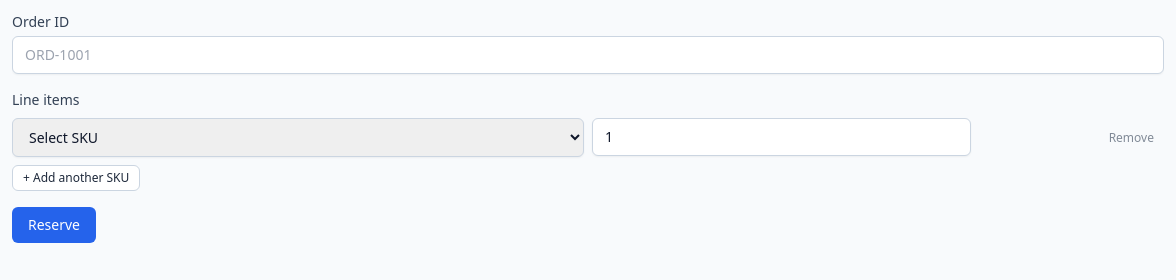
Test: ReservationForm › blocks submission when quantity exceeds available stock
In the field labelled "Order ID": (588, 55) [12,36,1164,74], type "ORD-1"
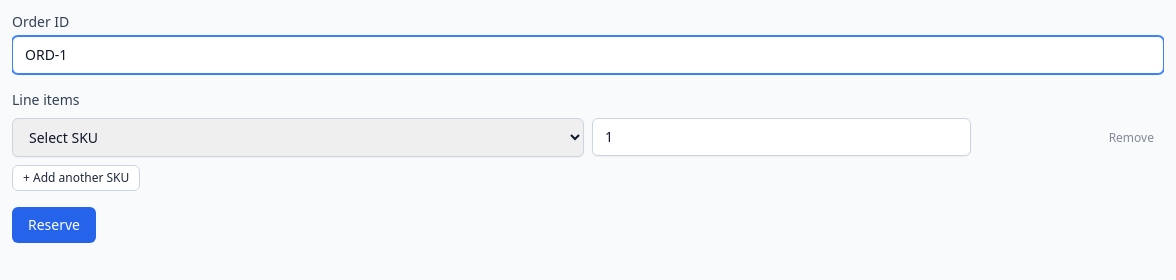
Select "B200 — Keyboard (avail 2)" in the dropdown named "SKU 1": (298, 138) [12,118,584,157]
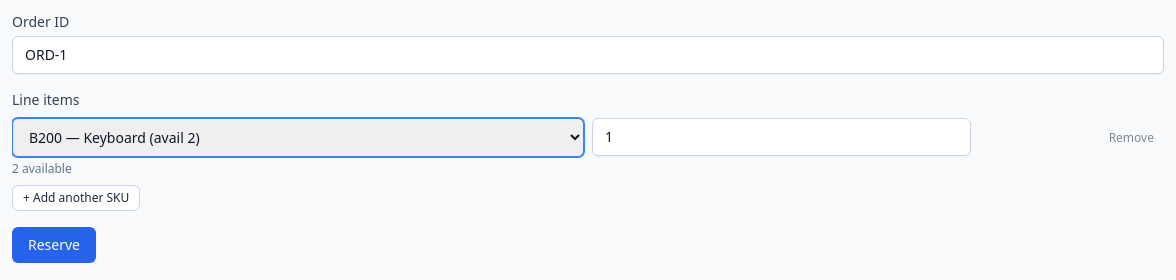
Replace the text in the number field named "Quantity 1" with "5": (781, 137) [592,118,971,156]
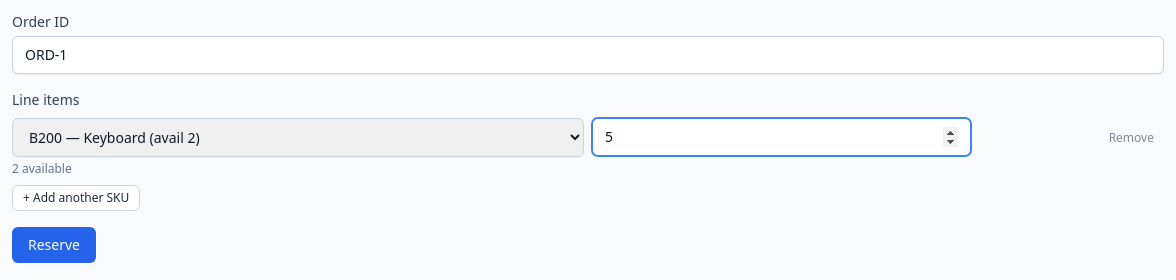
Click the button "Reserve": (54, 245) [12,227,96,263]
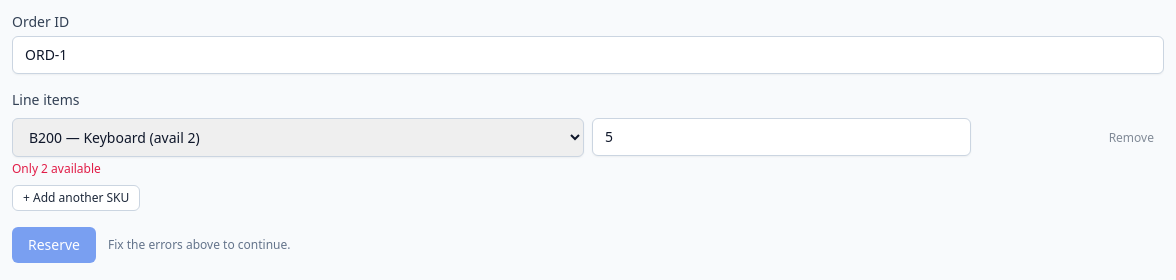
expect the text "Only 2 available" is shown: met, box [12,160,101,177]
